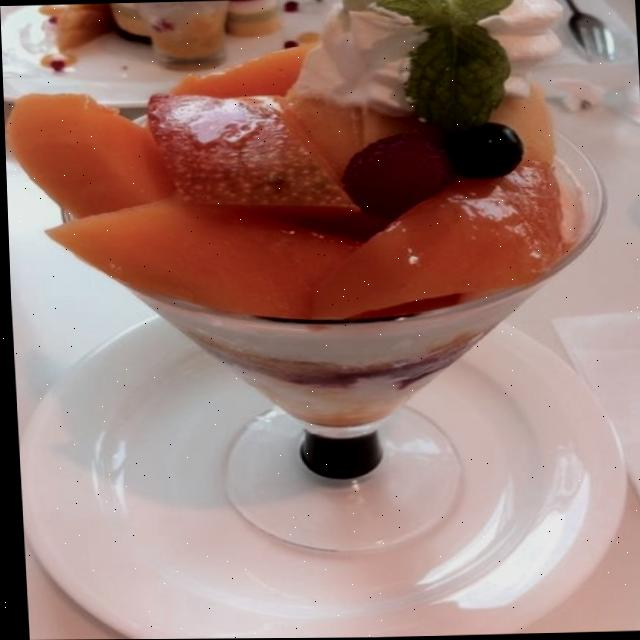蛋糕甜品: (21, 0, 635, 534)
